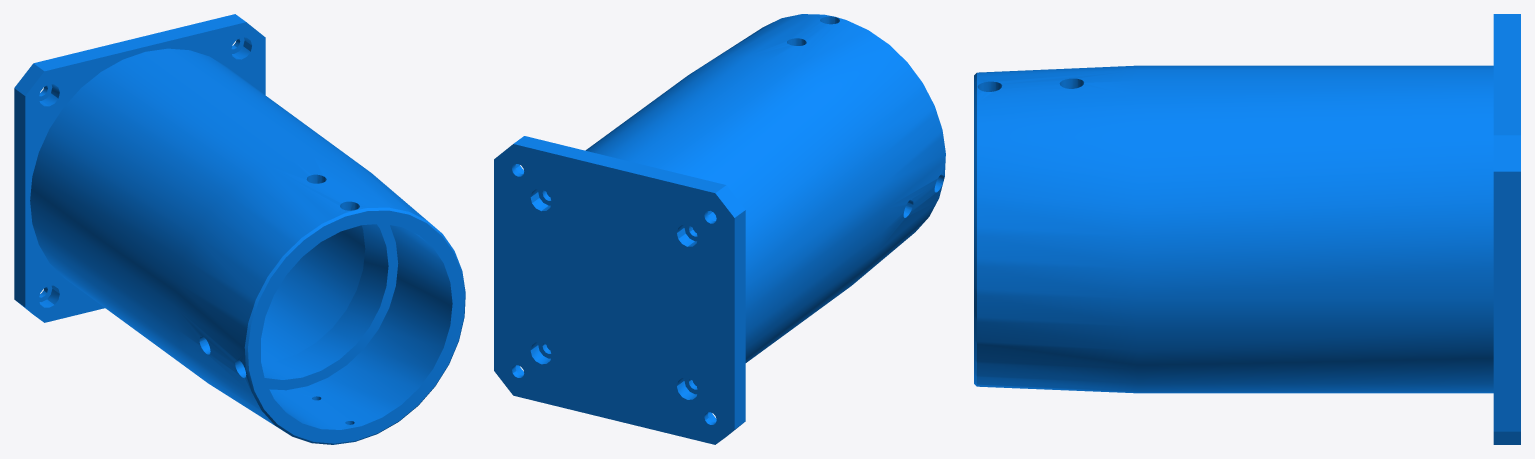
File: body.dae
3 renders of one model, left to right at view 1: azimuth 30°, elevation 25°; view 2: azimuth 150°, elevation 25°; view 3: azimuth 270°, elevation 25°, orthographic. The views are drawn at different scales.
Visible parts, largest first — view 1: right_body_link0; view 2: right_body_link0; view 3: right_body_link0.
Part boxes in pixels (x1,y1,x2,y2): right_body_link0: [14, 14, 465, 444]; right_body_link0: [494, 14, 945, 444]; right_body_link0: [974, 14, 1520, 444].
Bounding box in the file's own units: 0.125 × 0.125 × 0.2.
